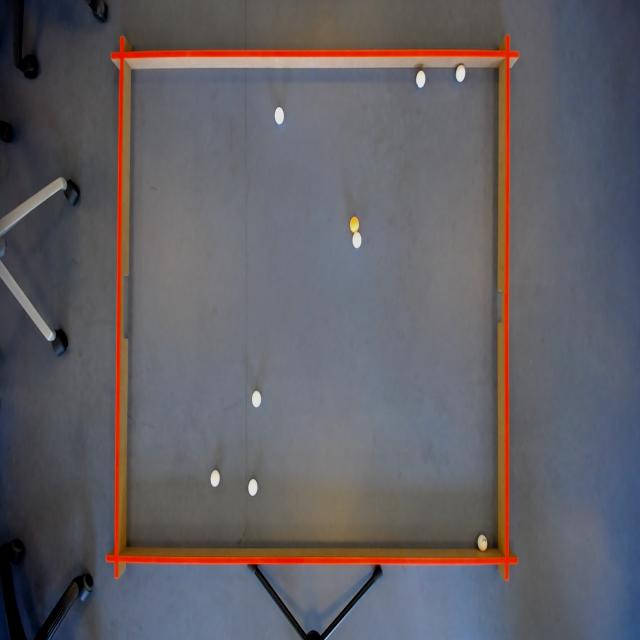orange_ball: (348, 211, 359, 235)
white_ball: (245, 476, 259, 501), (476, 531, 490, 555), (272, 104, 285, 129), (209, 468, 222, 492), (250, 388, 263, 411), (414, 67, 426, 90), (455, 64, 467, 85), (352, 231, 362, 252)
